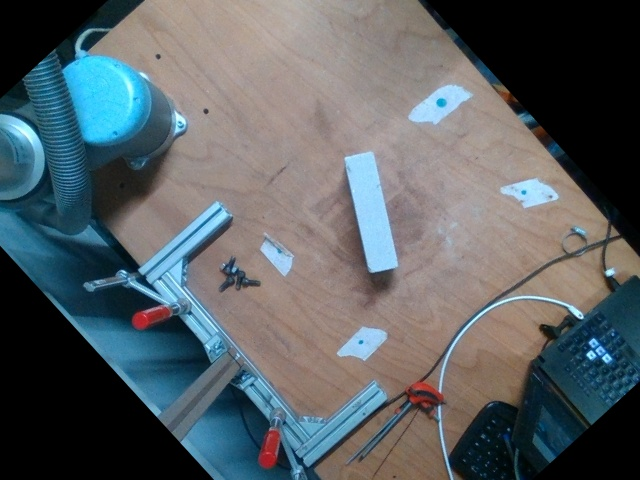brick-side: (344, 149, 397, 273)
